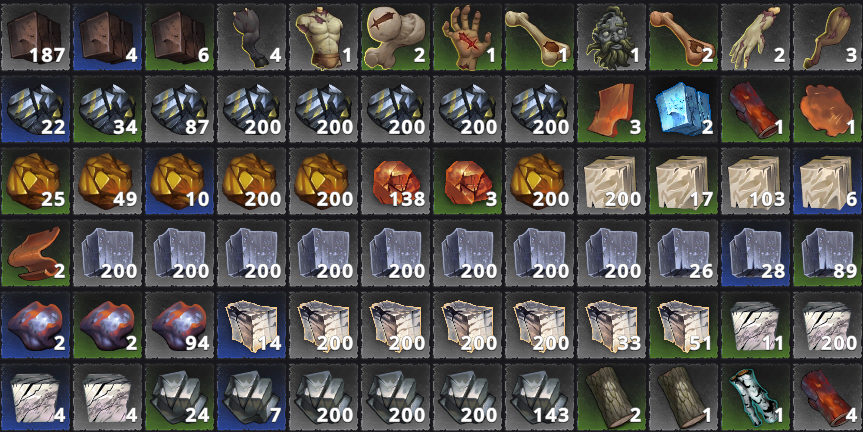ash log: (649, 363, 717, 429), (578, 363, 643, 428)
aurelium ore: (1, 147, 69, 213), (289, 148, 357, 214), (73, 148, 140, 214), (219, 148, 285, 213), (146, 149, 213, 213), (506, 149, 572, 213)
birch log: (723, 363, 787, 429)
copper ore: (362, 149, 430, 213), (435, 148, 501, 213)
flexible hide: (3, 219, 68, 284)
granite stone: (579, 221, 646, 285), (220, 221, 287, 284), (797, 223, 862, 287), (505, 222, 572, 284), (75, 221, 140, 284), (362, 221, 428, 282), (148, 221, 211, 284), (293, 221, 356, 284), (653, 223, 716, 286), (435, 221, 500, 282), (723, 223, 788, 284)
iron ore: (1, 291, 67, 356), (75, 293, 141, 358), (147, 293, 212, 357)
limestone stone: (507, 292, 573, 358), (217, 293, 285, 357), (434, 292, 500, 357), (363, 292, 428, 357), (577, 292, 643, 355), (290, 293, 355, 356), (650, 292, 715, 355)
marble stone: (721, 293, 789, 357), (2, 365, 69, 428), (797, 293, 860, 357), (77, 366, 139, 429)
silver ore: (506, 363, 574, 428), (291, 363, 358, 427), (220, 362, 284, 428), (148, 363, 212, 428), (435, 364, 500, 428), (364, 364, 428, 428)
slate stone: (143, 2, 214, 71), (72, 2, 141, 70), (2, 3, 70, 71)
soft hide: (793, 75, 859, 141)
strong hide: (577, 74, 644, 140)
tin ore: (72, 75, 143, 144), (215, 74, 287, 142), (2, 75, 70, 143), (145, 75, 213, 143), (361, 75, 429, 142), (291, 74, 357, 142), (434, 76, 502, 142), (506, 76, 572, 141)
travertine stone: (578, 148, 646, 214), (722, 148, 790, 213), (795, 149, 861, 214), (650, 148, 717, 212)
yew log: (721, 74, 790, 141), (795, 363, 860, 431)
